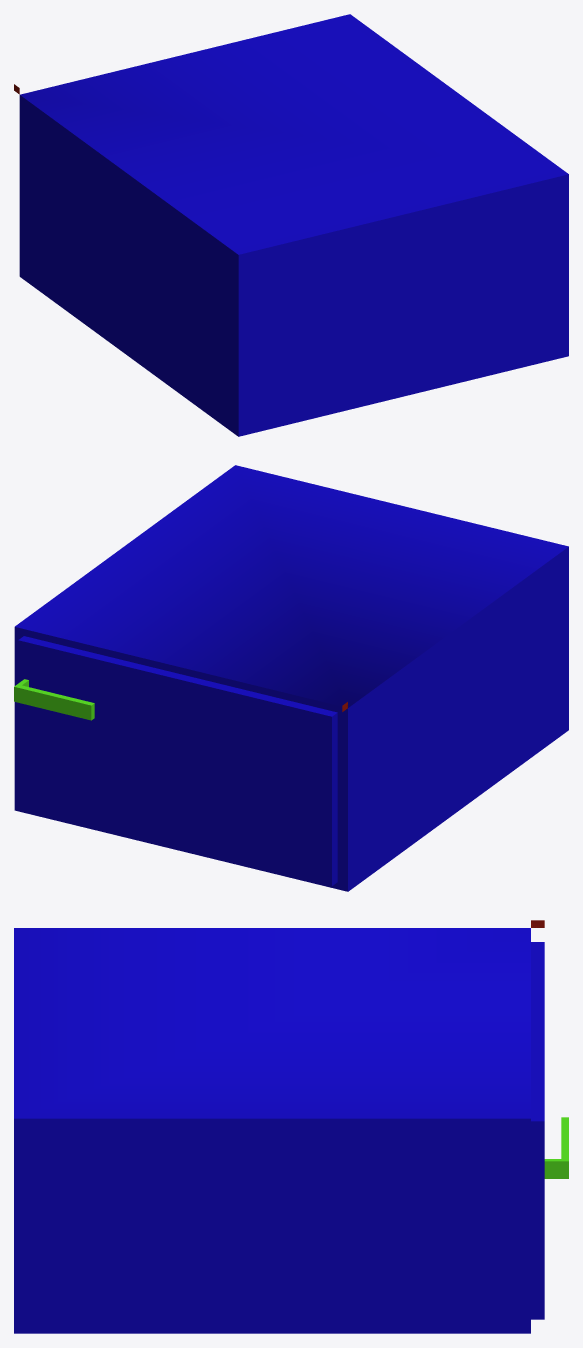
The model's file is P_Etagere02_Colored_Unbreakable.fbx.
The picture shows the model from 3 angles, top to bottom: view 1: azimuth 30°, elevation 25°; view 2: azimuth 150°, elevation 25°; view 3: azimuth 270°, elevation 25°; orthographic projection. The views are drawn at different scales.
Parts seen in each view (by area): view 1: P_Etagere02_Colored_Unbreakable; view 2: P_Etagere02_Colored_Unbreakable; view 3: P_Etagere02_Colored_Unbreakable.
Boxes of the visible parts, x1=… form: P_Etagere02_Colored_Unbreakable: x1=14, y1=14, x2=568, y2=436; P_Etagere02_Colored_Unbreakable: x1=14, y1=465, x2=568, y2=891; P_Etagere02_Colored_Unbreakable: x1=14, y1=920, x2=568, y2=1333.
Size of the model in its own units: 72.15 by 39.35 by 88.82.
